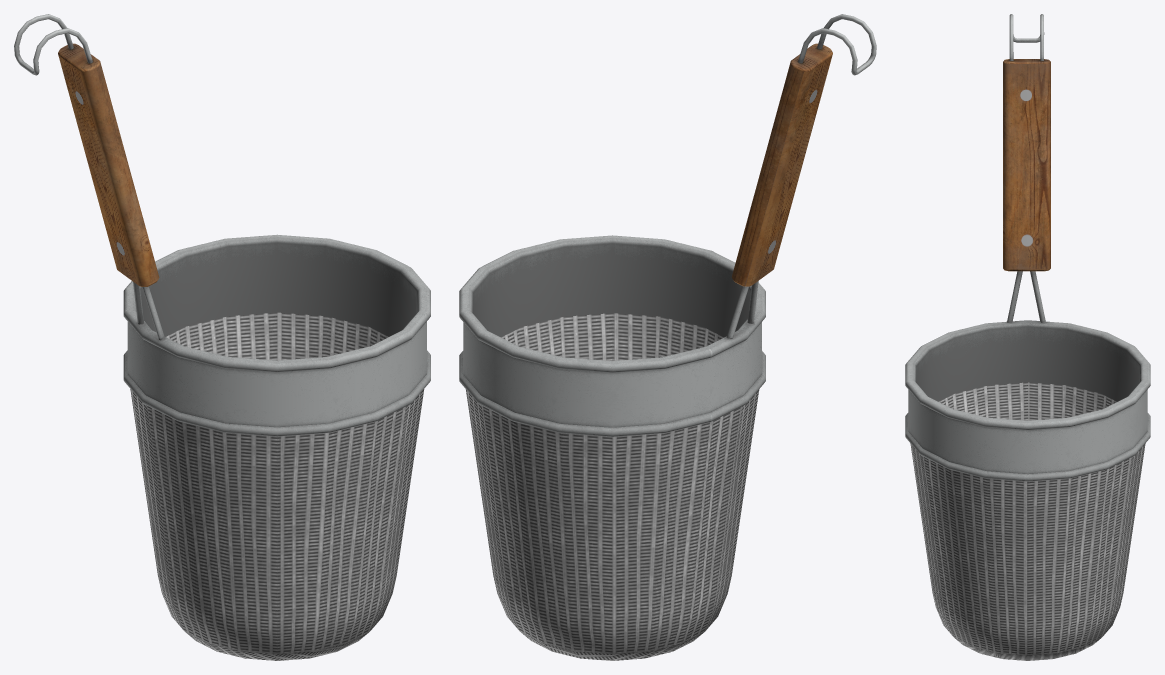
Rendered from BoilingTool 1.FBX.
The picture shows the model from 3 angles, left to right: view 1: azimuth 30°, elevation 25°; view 2: azimuth 150°, elevation 25°; view 3: azimuth 270°, elevation 25°; orthographic projection. The views are drawn at different scales.
Visible parts, largest first — view 1: BoilingTool; view 2: BoilingTool; view 3: BoilingTool.
Boxes of the visible parts, left/top/right/bottom form: BoilingTool: left=14, top=14, right=430, bottom=660; BoilingTool: left=459, top=14, right=876, bottom=660; BoilingTool: left=905, top=14, right=1150, bottom=660.
Bounding box in the file's own units: 22.17 × 36.27 × 15.17.
1 material, 1 textured.
